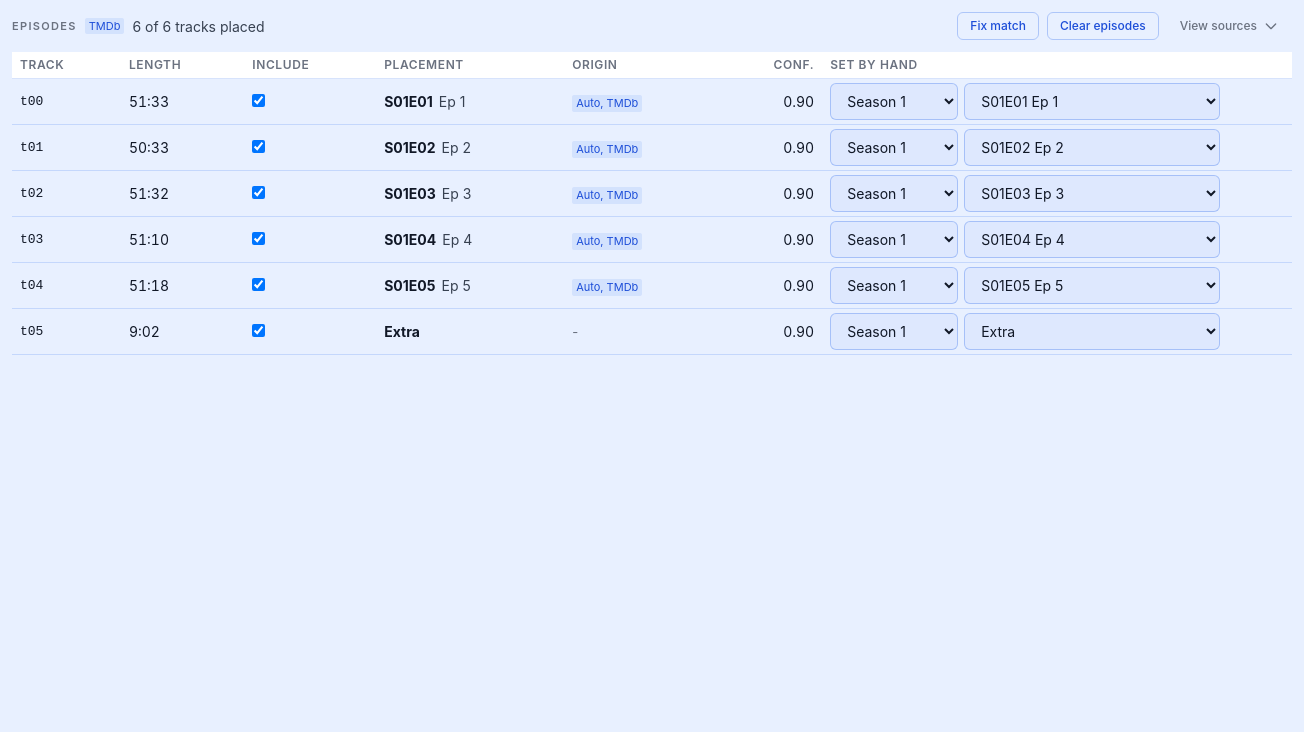
Scenario: EpisodeMatchPanel actions › keeps the current placement when preview fails
The image size is (1304, 732).
Click the button "Fix match": (998, 26) x1=957 y1=12 x2=1039 y2=40
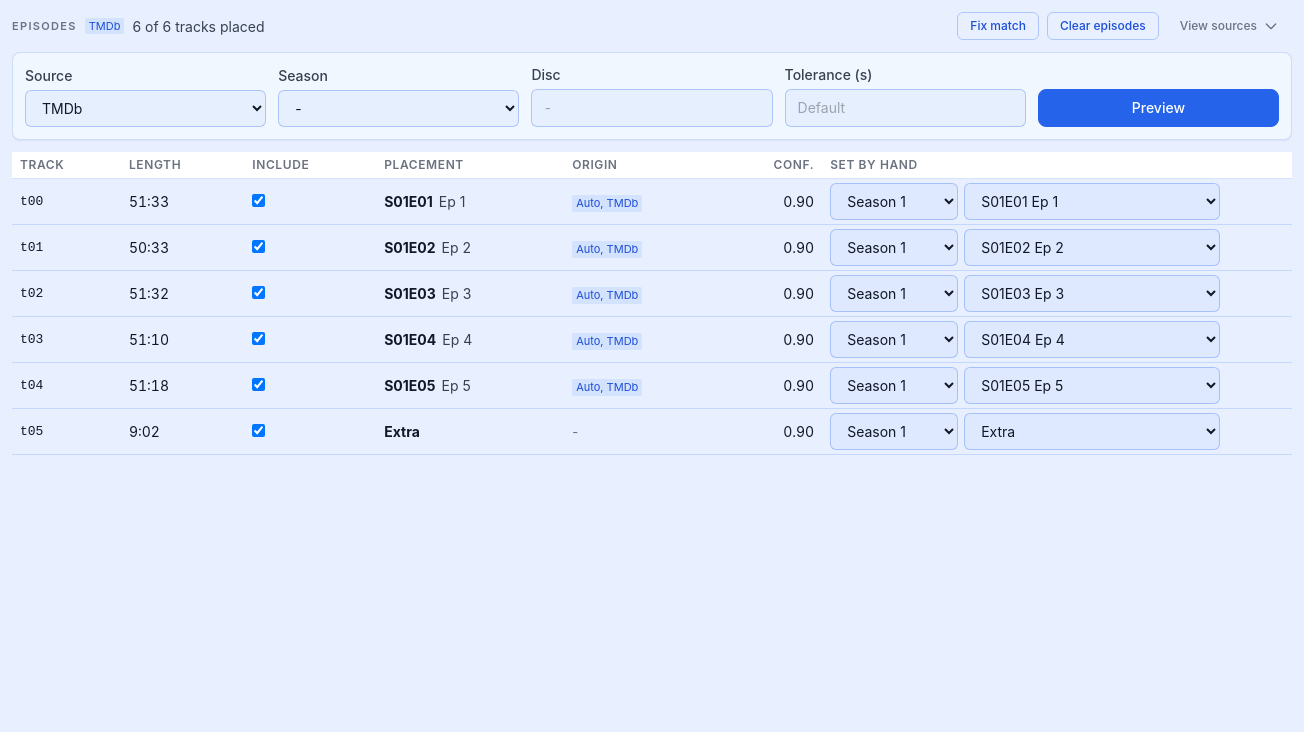
Select "TVmaze" in the dropdown labelled "Source": (146, 108) x1=25 y1=90 x2=266 y2=127
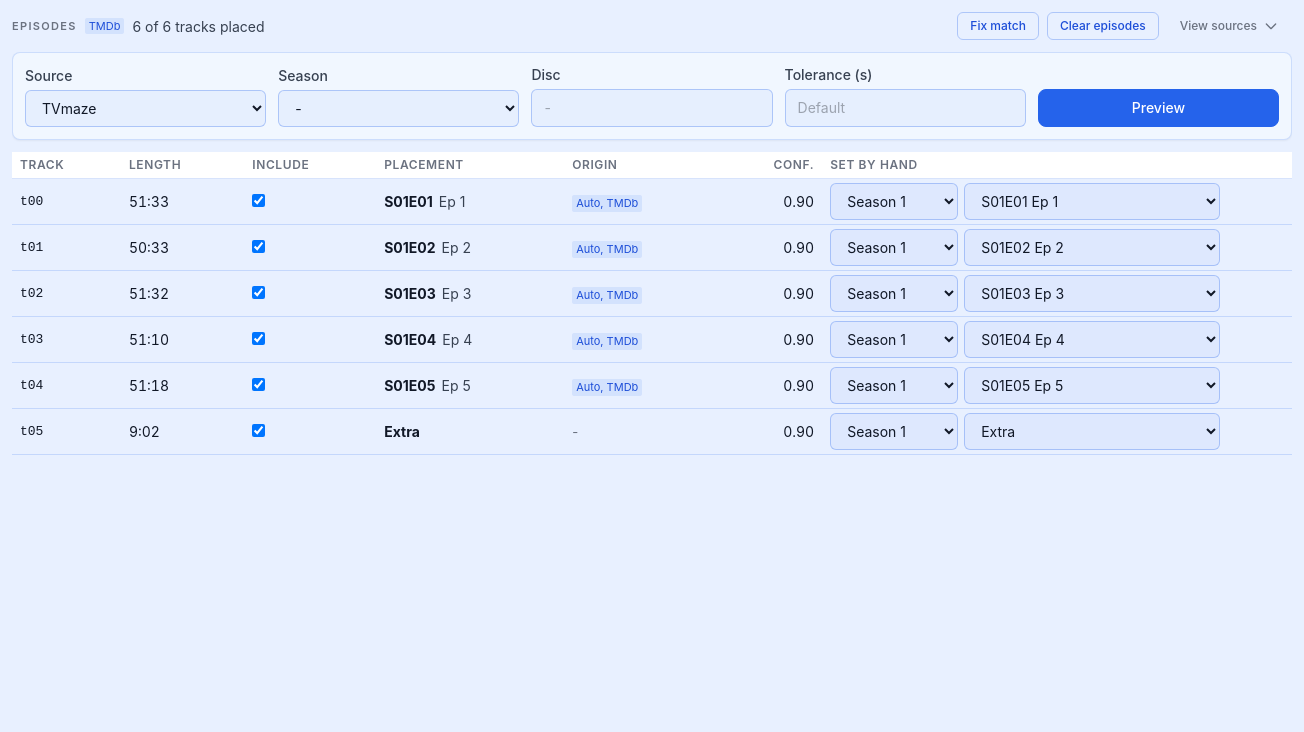
Click the button "Preview": (1158, 108) x1=1038 y1=89 x2=1279 y2=127
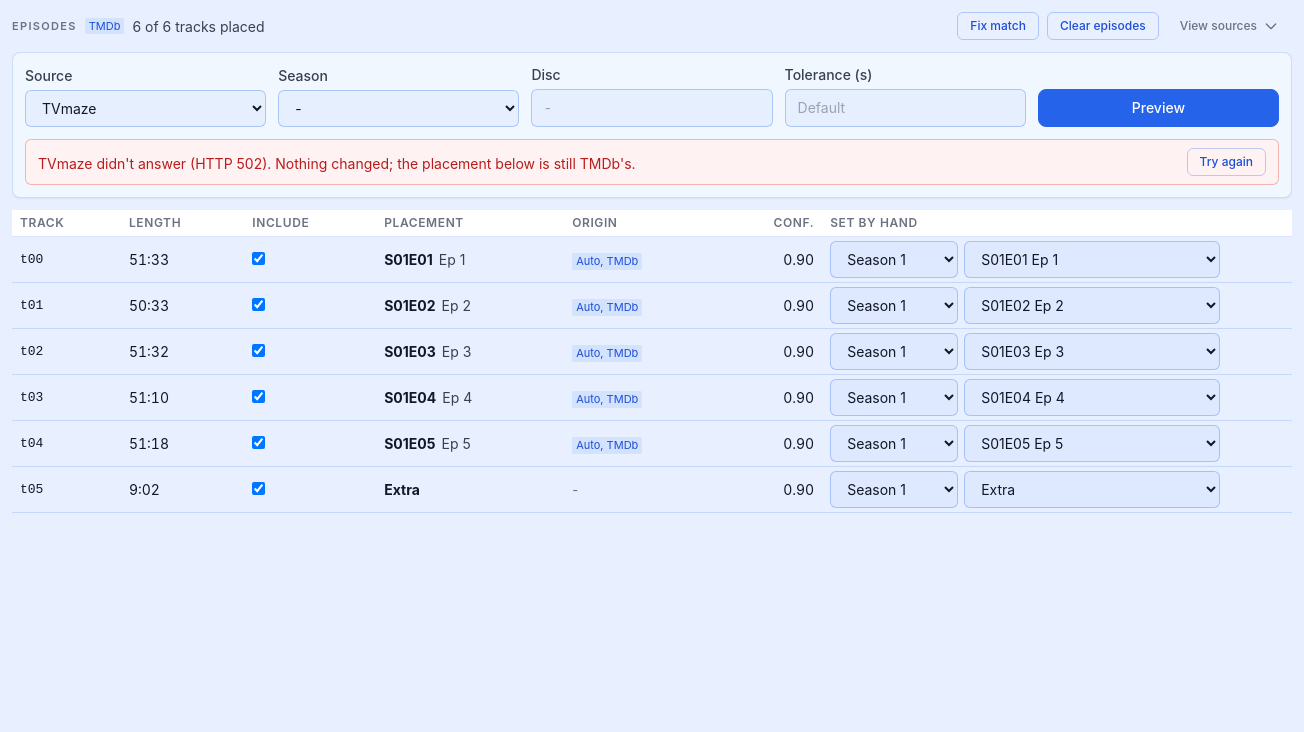
Expected: the text "S01E01" is shown, x1=384 y1=249 x2=433 y2=270
Now the 2nd message shows "TVmaze didn't answer (HTTP 502)", box x1=38 y1=155 x2=636 y2=172
Now the 2nd message shows "still TMDb's", box x1=38 y1=155 x2=636 y2=172
Click the button "Try again": (1226, 162) x1=1187 y1=148 x2=1266 y2=176
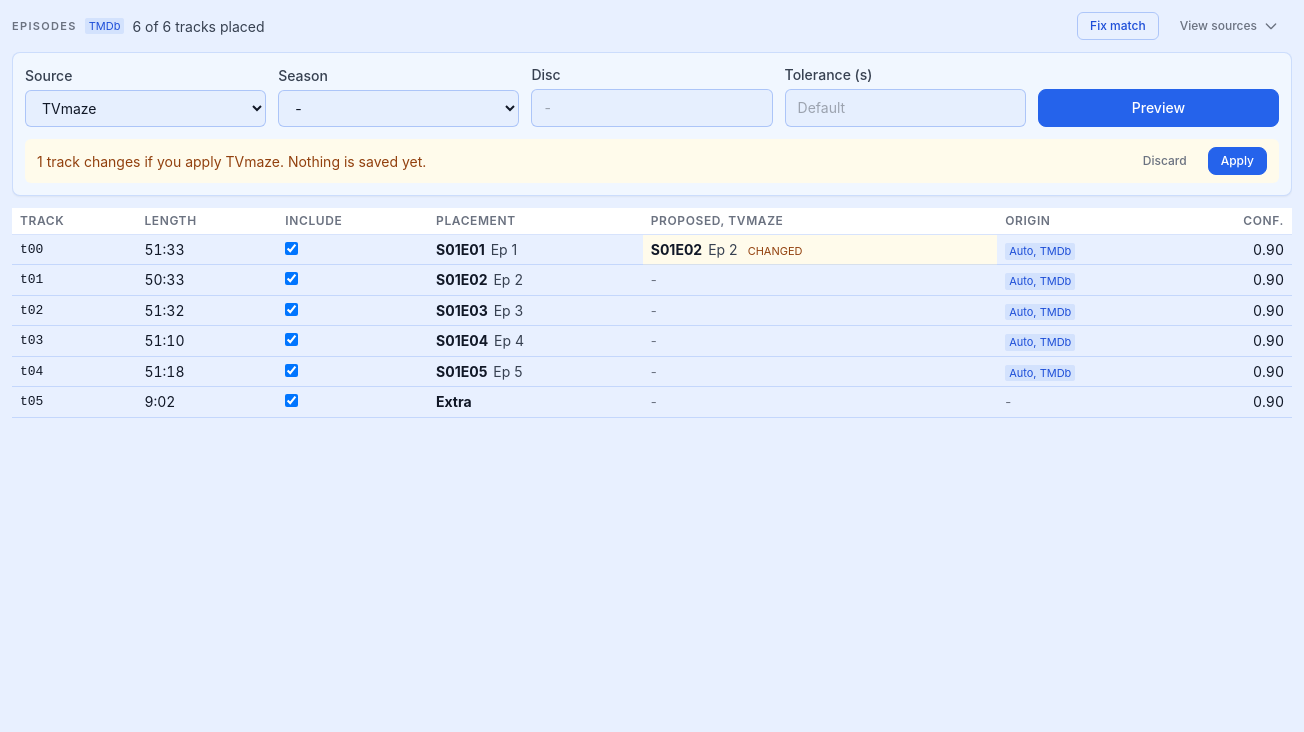
Now the text "1 track changes if you apply TVmaze. Nothing is saved yet." is shown, box x1=37 y1=150 x2=426 y2=172
